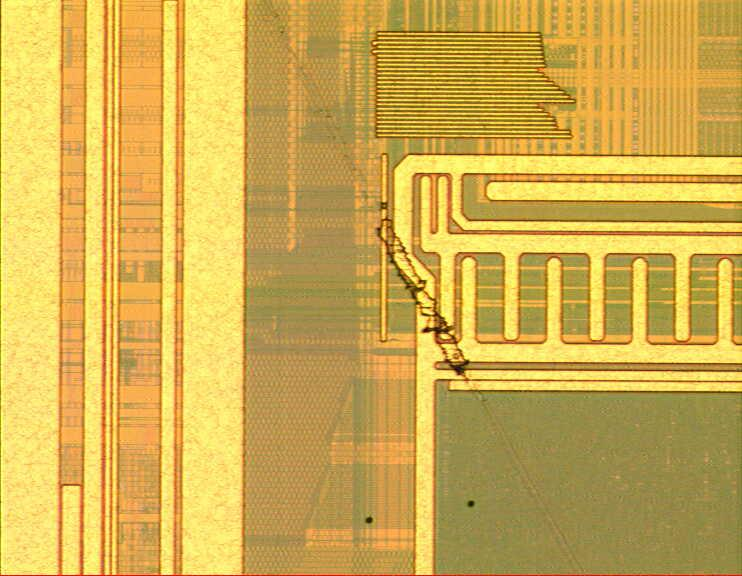SCRATCH: (251, 1, 594, 576)
